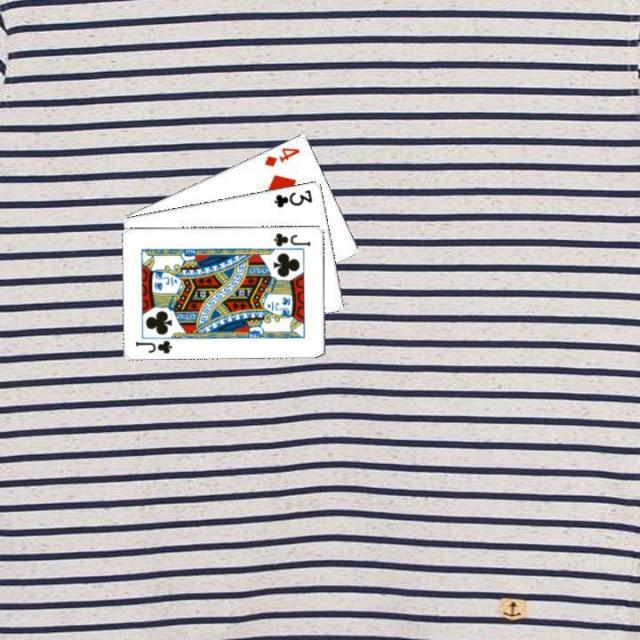3C: (270, 186, 314, 209)
4D: (261, 143, 302, 168)
JC: (270, 228, 312, 248), (133, 336, 175, 356)
